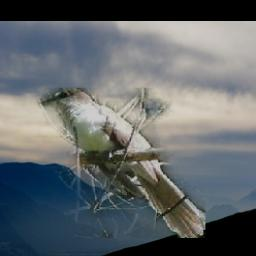Cuckoo: (38, 89, 206, 239)
